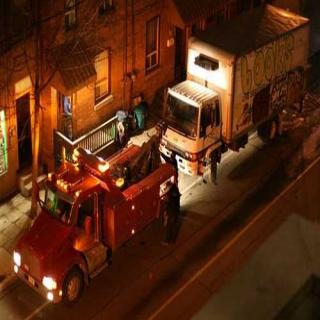Towing_truck: (12, 125, 185, 304)
